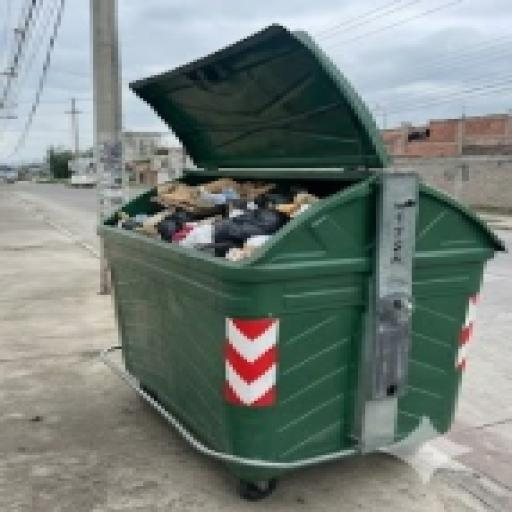Contenedor_Lleno: (97, 26, 501, 499)
